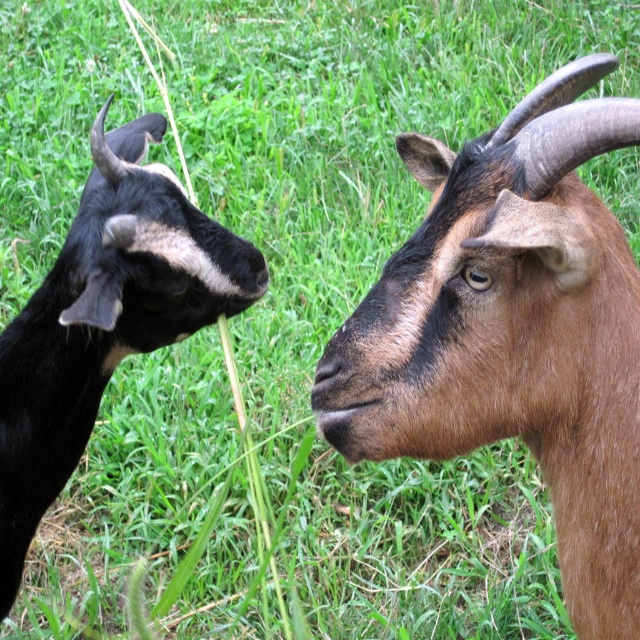Goat: (304, 49, 640, 639), (0, 87, 269, 626)
